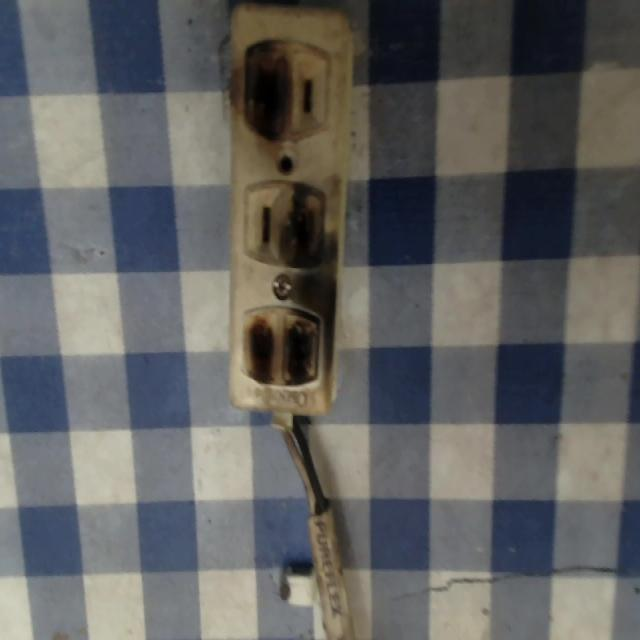-: (231, 296, 327, 400), (233, 29, 301, 167), (279, 182, 337, 282)
